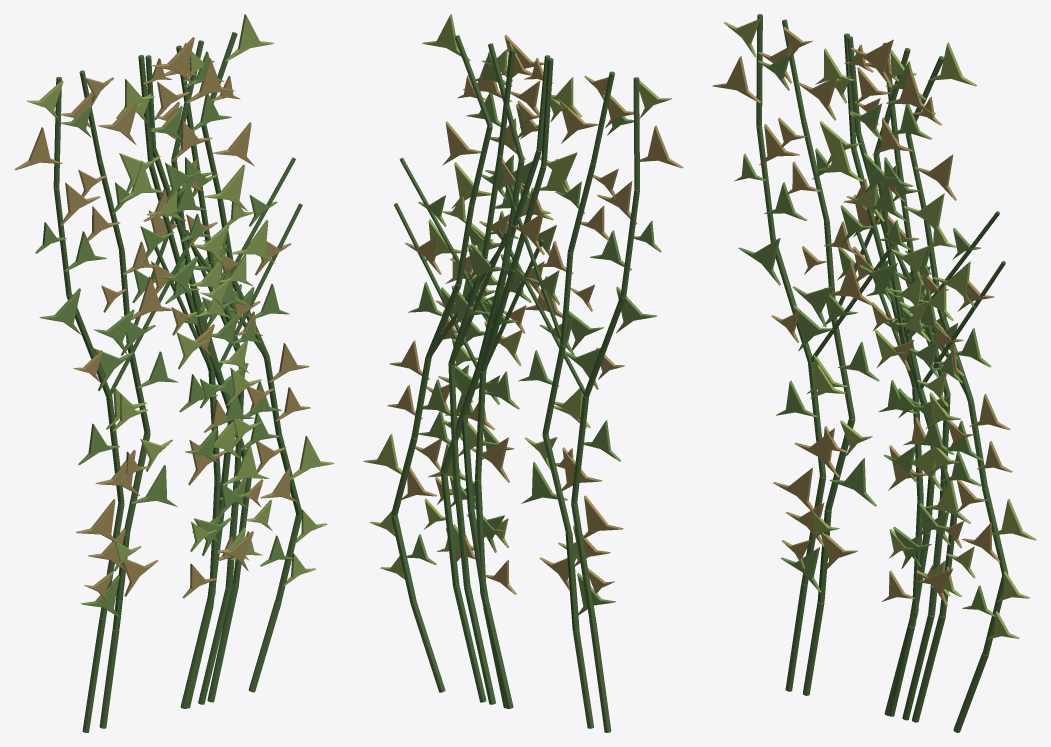
Rendered from runtime.glb.
3 renders of one model, left to right at view 1: azimuth 30°, elevation 25°; view 2: azimuth 150°, elevation 25°; view 3: azimuth 330°, elevation 25°, orthographic.
Parts seen in each view (by area): view 1: falkenwacht-wall-ivy-v08_nocol; view 2: falkenwacht-wall-ivy-v08_nocol; view 3: falkenwacht-wall-ivy-v08_nocol.
Boxes of the visible parts, x1,y1,x2,y2 form: falkenwacht-wall-ivy-v08_nocol: (14,14,334,732); falkenwacht-wall-ivy-v08_nocol: (363,14,683,732); falkenwacht-wall-ivy-v08_nocol: (712,14,1036,732).
Bounding box in the file's own units: 2.32 × 4.73 × 0.0835.
